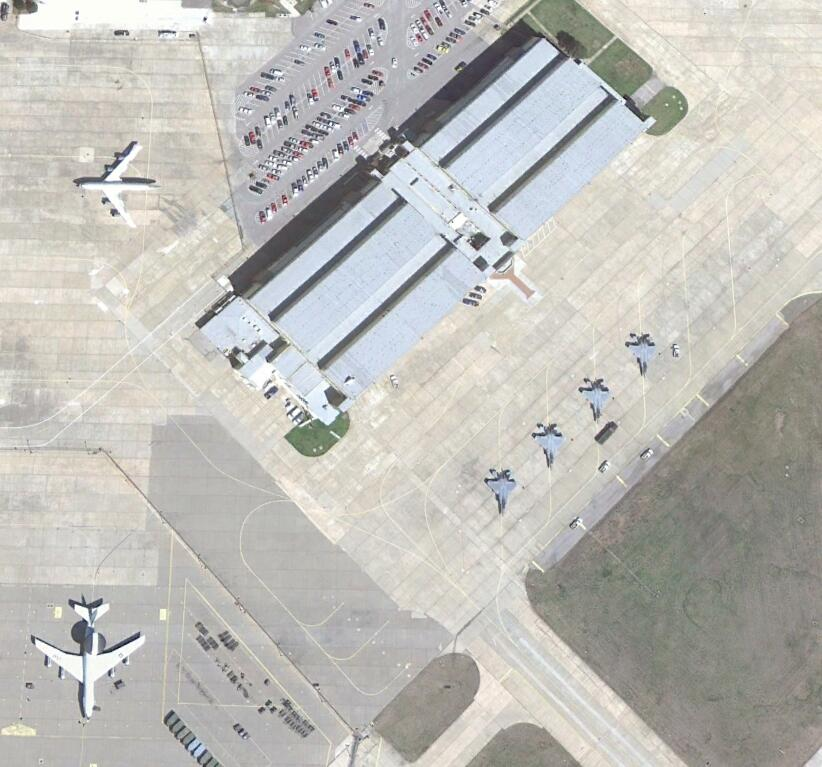A13: (578, 378, 614, 424), (625, 333, 660, 379), (485, 468, 519, 515), (531, 422, 567, 466)
A7: (34, 600, 145, 721)
